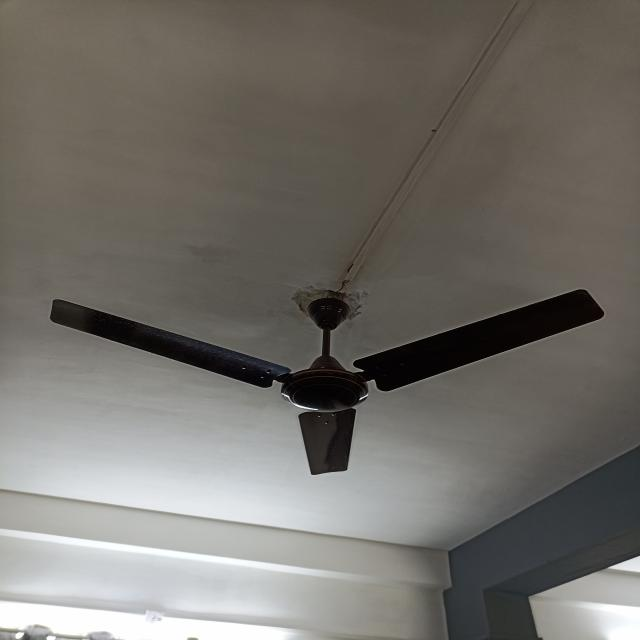fan: (49, 285, 605, 474)
